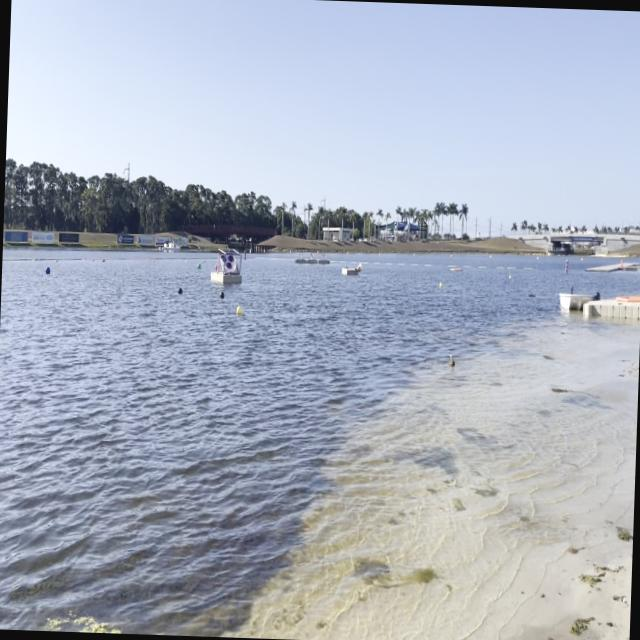buoy: (236, 304, 242, 314), (44, 265, 50, 274), (178, 285, 182, 294), (197, 261, 201, 269), (220, 290, 223, 298), (438, 282, 442, 288), (215, 263, 218, 269)
